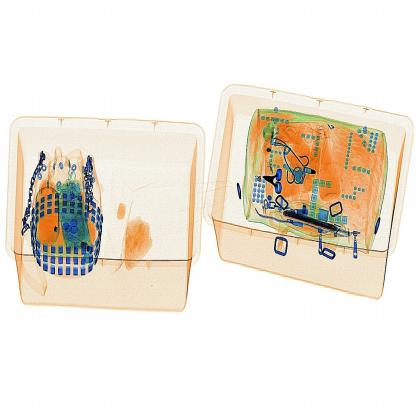gun: (263, 164, 291, 209)
